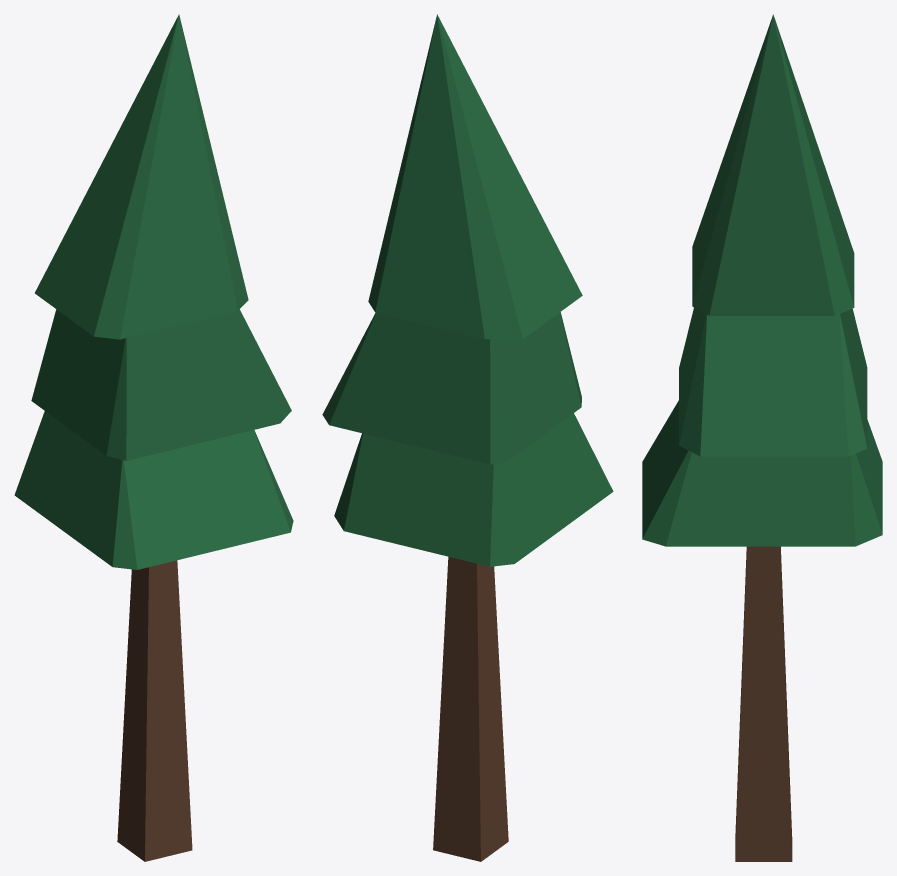
Rendered from tree_pineTallA.glb.
3 renders of one model, left to right at view 1: azimuth 30°, elevation 25°; view 2: azimuth 150°, elevation 25°; view 3: azimuth 270°, elevation 25°, orthographic. The views are drawn at different scales.
Visible parts, largest first — view 1: tree_pineTallA; view 2: tree_pineTallA; view 3: tree_pineTallA.
Boxes of the visible parts, left/top/right/bottom form: tree_pineTallA: left=14, top=14, right=293, bottom=861; tree_pineTallA: left=322, top=14, right=613, bottom=861; tree_pineTallA: left=642, top=14, right=882, bottom=861.
Bounding box in the file's own units: 0.3863 × 1.53 × 0.392.
